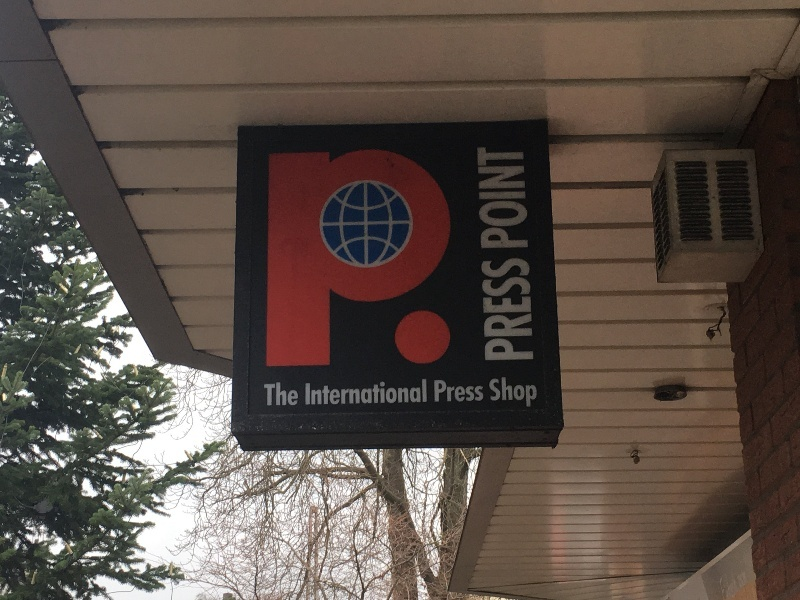text: (273, 145, 288, 369), (289, 145, 304, 369), (305, 145, 320, 369), (321, 145, 336, 369), (337, 145, 352, 369), (353, 145, 368, 369), (369, 145, 384, 369), (385, 145, 400, 369), (401, 145, 416, 369), (417, 145, 432, 369), (433, 145, 448, 369), (481, 257, 496, 361), (497, 257, 512, 361), (513, 257, 528, 361), (481, 147, 496, 250), (497, 147, 512, 250), (513, 147, 528, 250), (267, 145, 272, 369), (449, 145, 453, 369), (529, 257, 534, 361), (497, 377, 512, 408), (513, 377, 528, 408), (305, 379, 320, 406), (321, 379, 336, 406), (337, 379, 352, 406), (353, 379, 368, 406), (369, 379, 384, 406), (385, 379, 400, 406), (401, 379, 416, 406), (273, 382, 288, 406), (449, 379, 464, 403), (465, 379, 480, 403), (434, 379, 448, 403), (477, 147, 480, 250), (529, 377, 538, 408), (417, 379, 427, 406), (289, 382, 299, 406), (489, 377, 496, 408), (264, 382, 272, 406), (481, 379, 484, 403)
